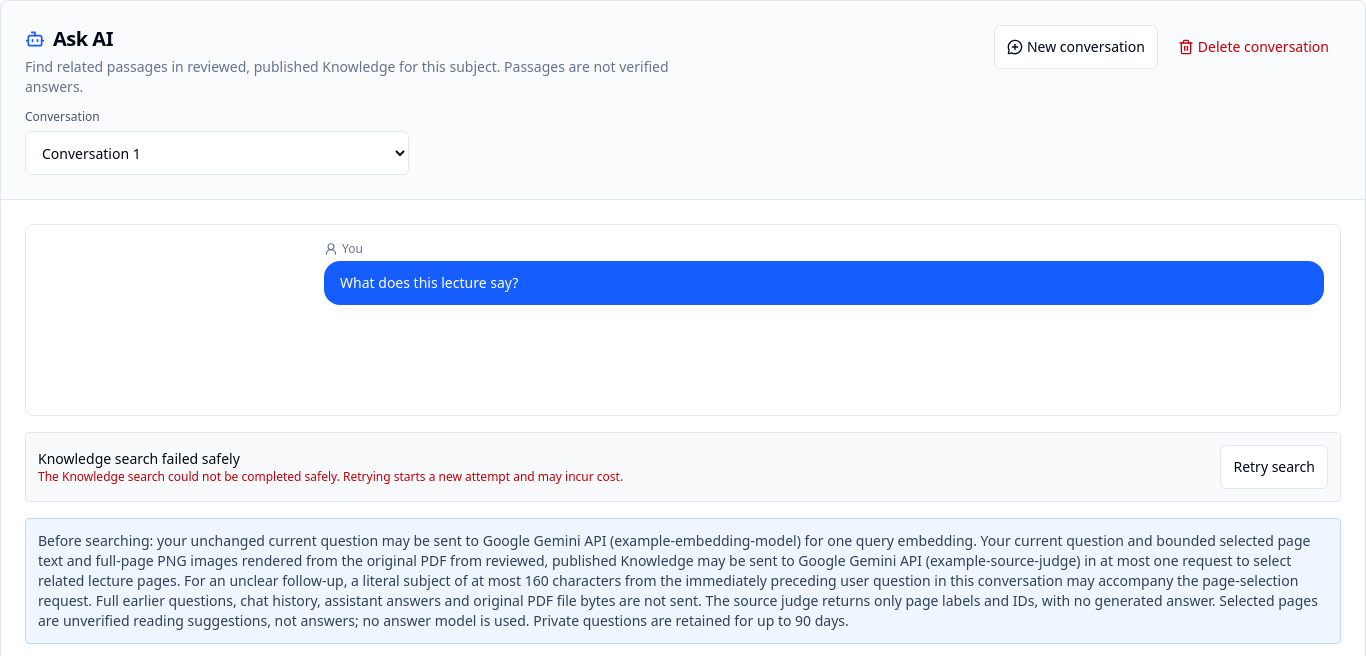
Test: rechecks literal-subject capability at retry confirmation and preserves unknown spend
The image size is (1366, 656).
Click the button "Retry search".
click(1274, 467)  # box top-left (1220, 445), bottom-right (1328, 489)
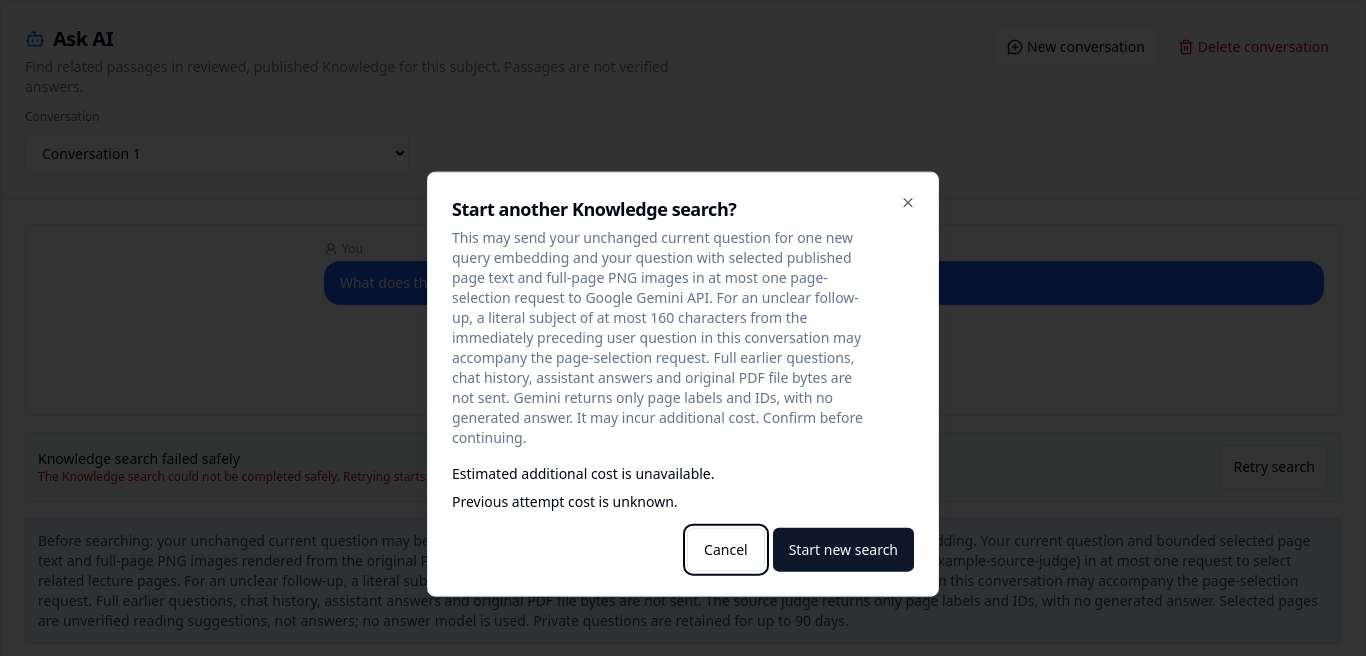
Check: the text "This may send your unchanged current question for one new query embedding and your question with selected published page" is shown, box top-left (452, 227), bottom-right (863, 446)
Check: the text "Previous attempt cost is unknown." is shown, box top-left (452, 491), bottom-right (678, 510)
Click the button "Start new search".
click(843, 549)  # box top-left (773, 527), bottom-right (914, 571)
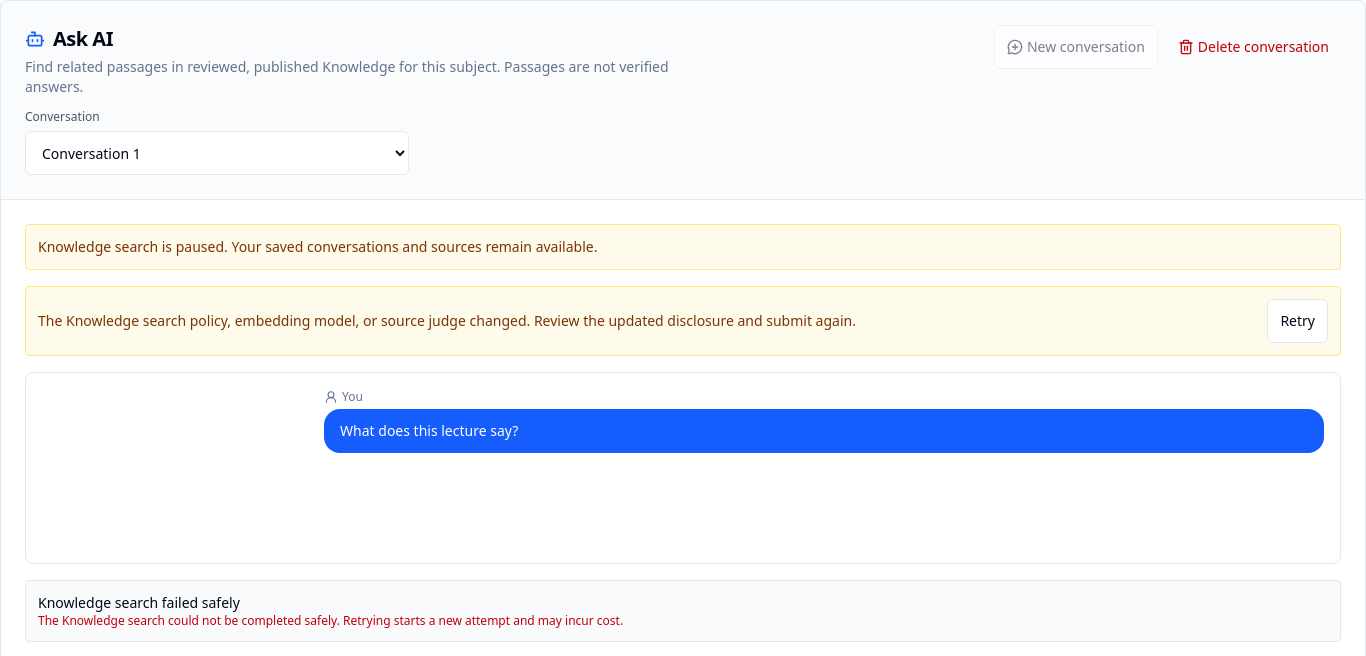
Check: the text "The Knowledge search policy, embedding model, or source judge changed. Review the updated disclosure and submit again." is shown, box top-left (38, 311), bottom-right (856, 330)
